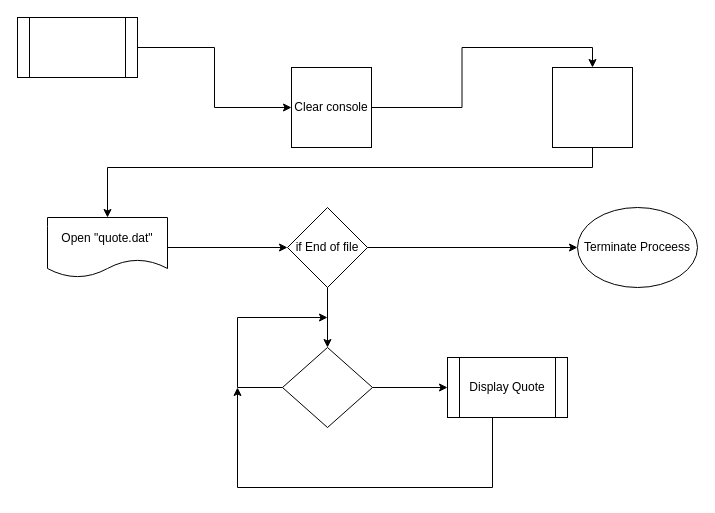
This 715x513 diagram has some shape labels left out. Each missing label, with the centre of its shape:
if quote is valid?: [327,387]
Initialize buyer_quotes object "quote": [592,107]
Show_all_quotes: [77,47]
